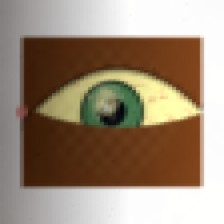corneal_ulcer: (85, 85, 128, 120)
